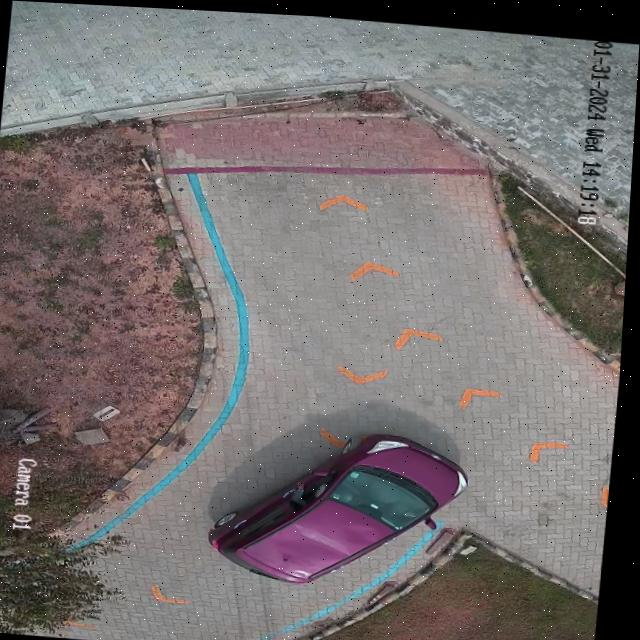car: (213, 430, 472, 579)
